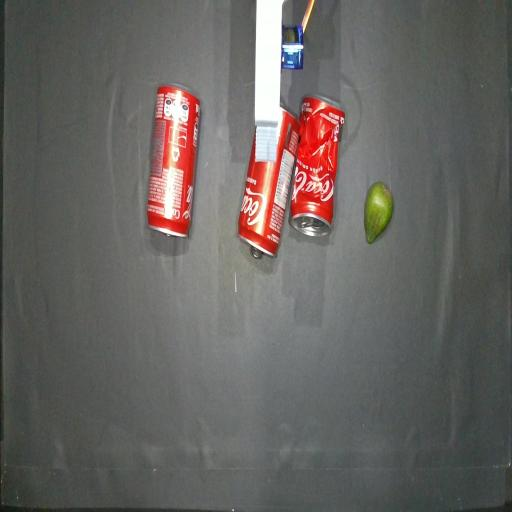higo: (364, 182, 393, 243)
lata: (238, 107, 299, 257), (147, 86, 200, 236)
lata_defectuoso: (290, 95, 345, 236)
